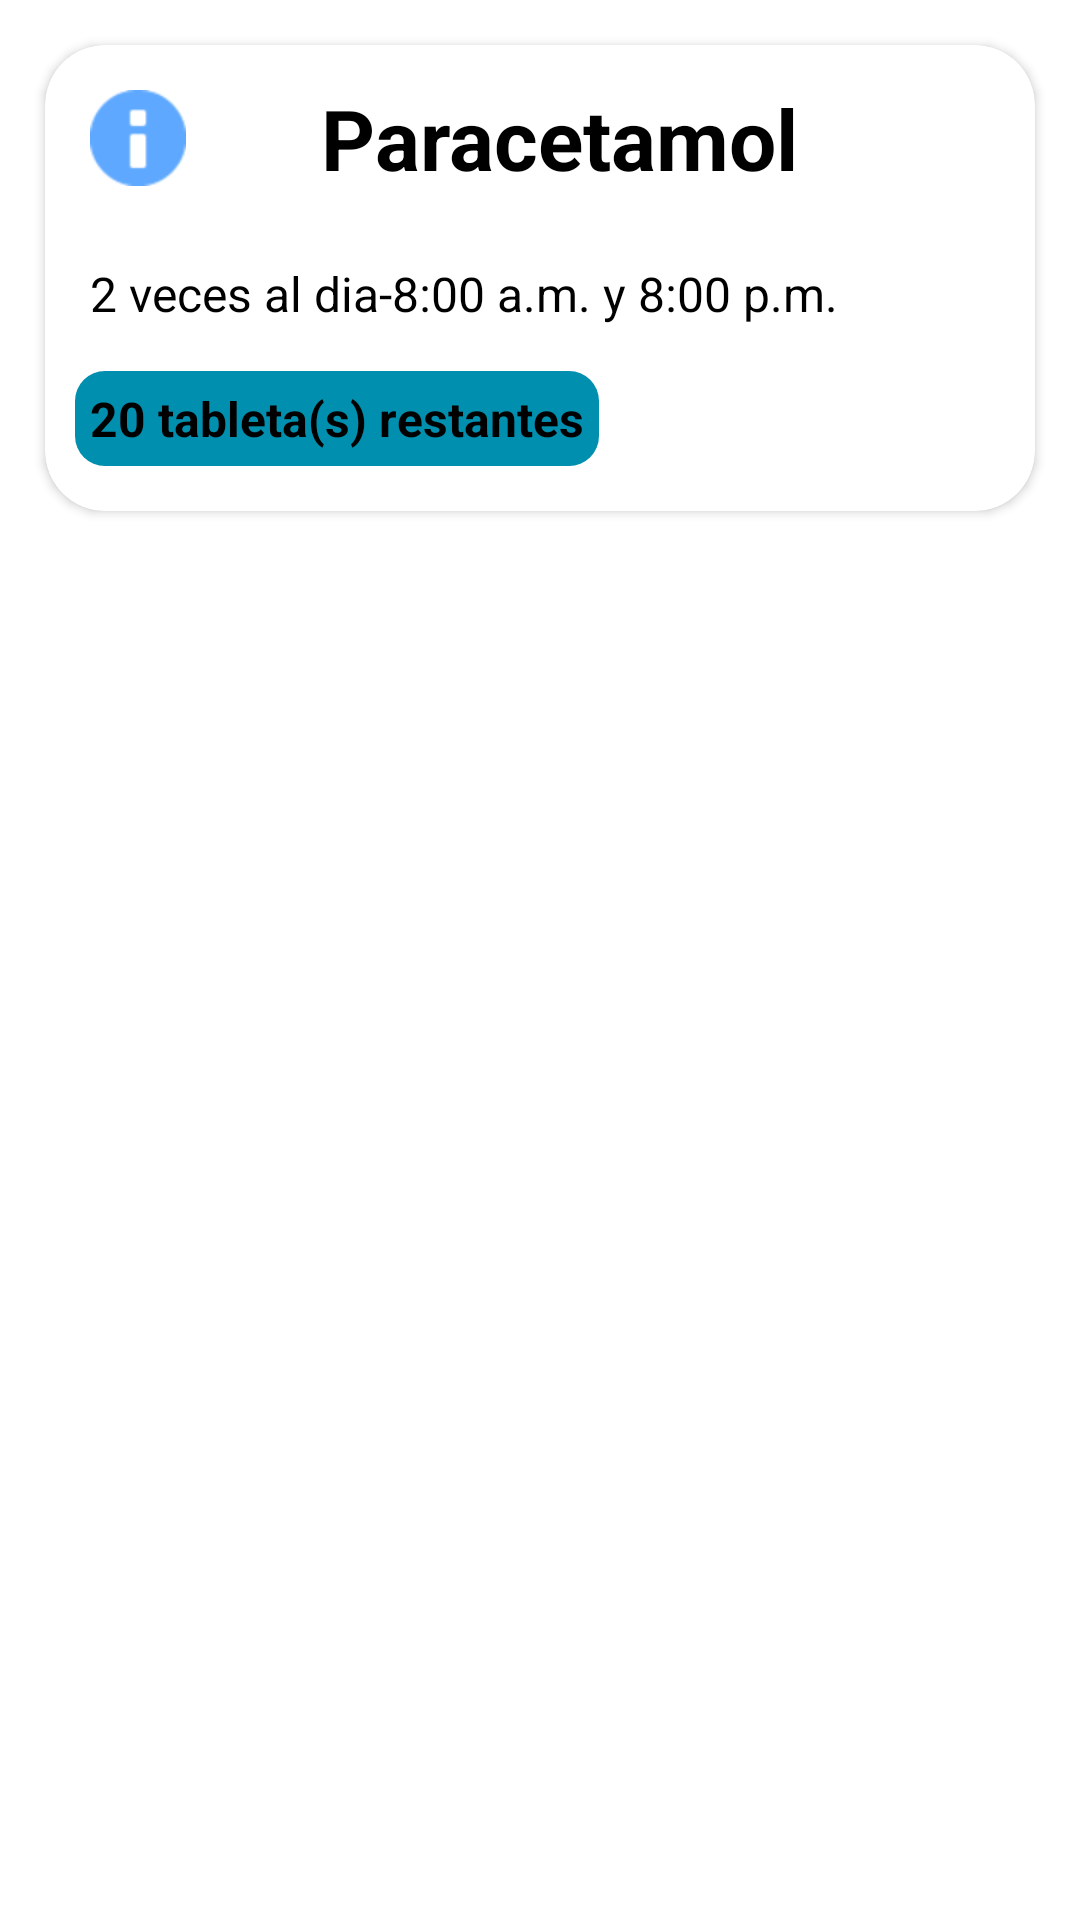

Locate icon controls on the screen. Image size 1080px×1920px, boxes as bbox(x1, y1, x2, y2).
info: bbox(90, 90, 186, 186)
